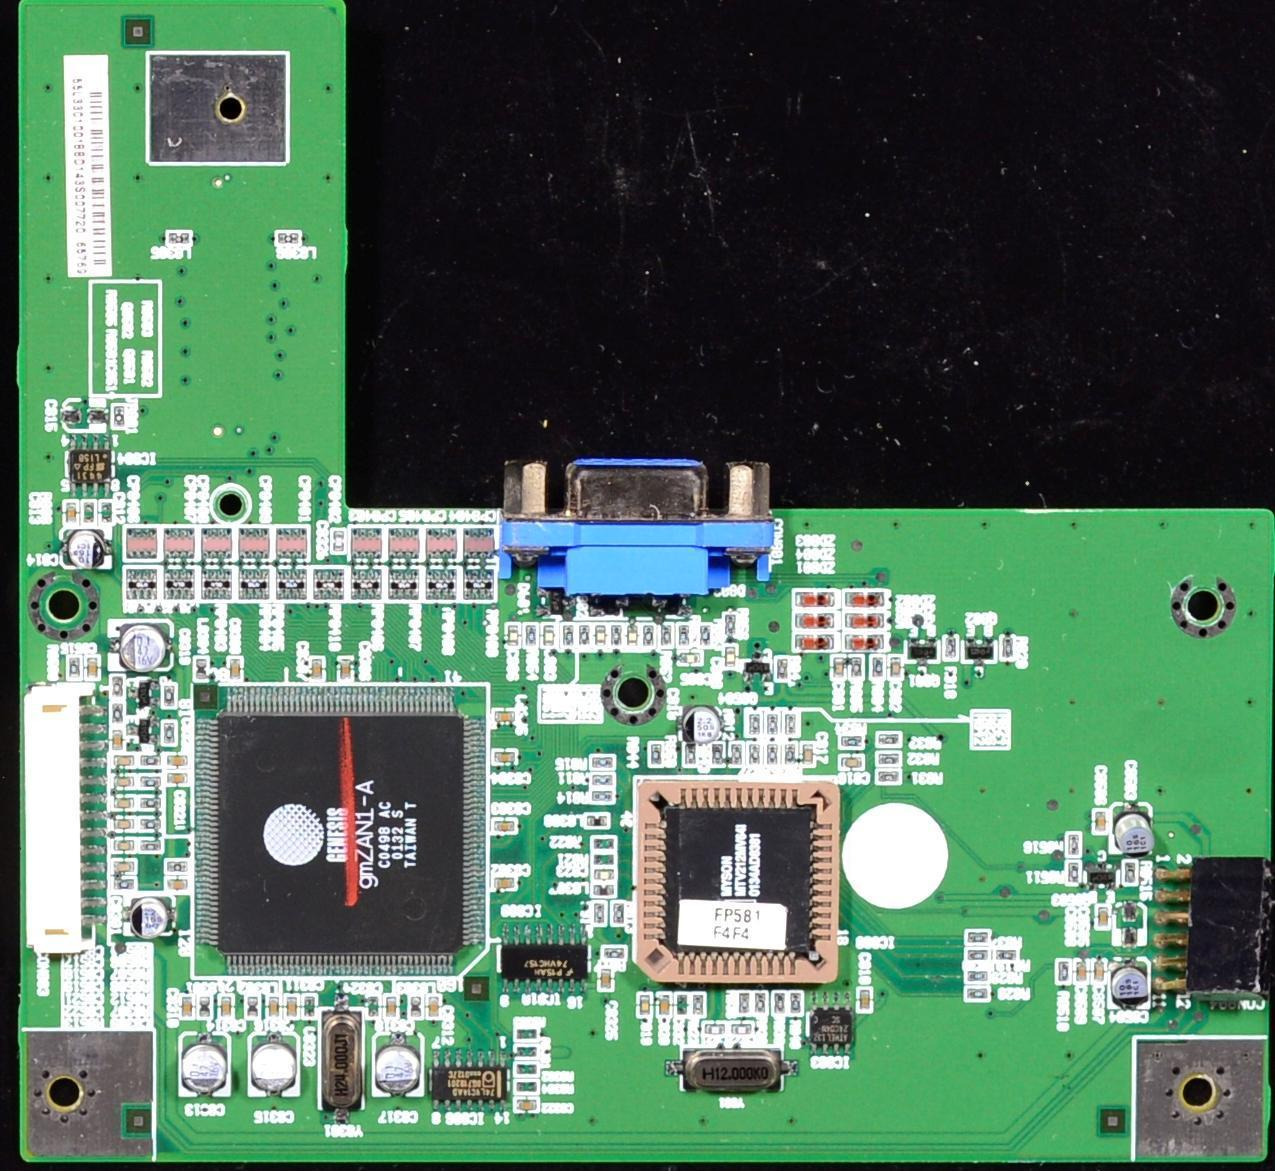Capacitor: (176, 1037, 227, 1099), (248, 1040, 296, 1095), (61, 527, 113, 575), (376, 1038, 422, 1092), (1112, 806, 1152, 857), (1113, 963, 1149, 1010), (333, 657, 360, 683), (513, 1098, 543, 1118), (588, 864, 616, 884), (1093, 906, 1113, 934), (165, 768, 191, 790), (110, 794, 140, 813), (700, 1019, 729, 1038), (730, 1017, 755, 1038), (854, 987, 874, 1013), (109, 771, 139, 789), (109, 754, 139, 771), (490, 874, 517, 892), (110, 725, 127, 754), (1092, 807, 1108, 836), (307, 655, 324, 682), (84, 655, 102, 682), (596, 624, 612, 654), (178, 995, 194, 1023), (1073, 958, 1089, 985), (636, 992, 654, 1018), (113, 836, 138, 853), (166, 754, 191, 771), (427, 996, 441, 1024), (63, 499, 79, 525), (626, 623, 642, 650), (494, 707, 517, 724), (541, 624, 558, 649), (491, 751, 515, 768), (492, 820, 522, 833), (507, 623, 524, 646), (600, 969, 616, 992), (655, 990, 670, 1017), (284, 992, 299, 1019), (101, 499, 116, 525), (113, 856, 138, 871), (674, 993, 691, 1016), (231, 657, 244, 684), (383, 997, 399, 1020), (676, 652, 703, 665), (889, 655, 902, 682), (1093, 959, 1106, 985), (113, 818, 138, 832), (165, 877, 187, 893), (723, 647, 738, 670), (218, 994, 230, 1021), (266, 994, 278, 1022), (840, 757, 865, 768), (802, 744, 816, 763), (834, 657, 844, 680)
IC: (191, 682, 492, 977), (633, 777, 839, 982), (495, 925, 594, 1000), (430, 1048, 510, 1118), (60, 431, 117, 498)
Resistor: (850, 656, 872, 683), (763, 707, 782, 739), (780, 709, 800, 738), (724, 606, 740, 638), (966, 948, 994, 966), (784, 736, 799, 768), (1066, 831, 1083, 859), (641, 623, 658, 649), (163, 859, 189, 875), (710, 742, 727, 765), (140, 838, 163, 856), (1066, 860, 1082, 887), (993, 949, 1020, 964), (162, 720, 177, 748), (764, 740, 779, 768), (590, 790, 617, 804), (967, 931, 995, 945), (140, 754, 165, 770), (590, 772, 615, 788), (137, 817, 163, 831), (65, 654, 81, 679), (746, 710, 759, 741), (748, 742, 763, 767), (876, 767, 898, 783), (142, 792, 161, 811), (775, 653, 790, 678), (698, 625, 714, 647), (876, 732, 897, 749), (875, 752, 901, 766), (1057, 959, 1071, 984), (840, 736, 867, 748), (683, 744, 700, 764), (649, 741, 662, 766), (592, 835, 616, 849), (161, 683, 176, 705), (730, 743, 744, 766), (113, 879, 135, 893), (110, 672, 123, 696), (139, 777, 163, 789), (874, 657, 886, 680), (113, 699, 125, 720), (676, 624, 690, 642), (590, 756, 613, 766), (581, 622, 590, 645), (566, 625, 573, 645), (661, 622, 668, 641)
